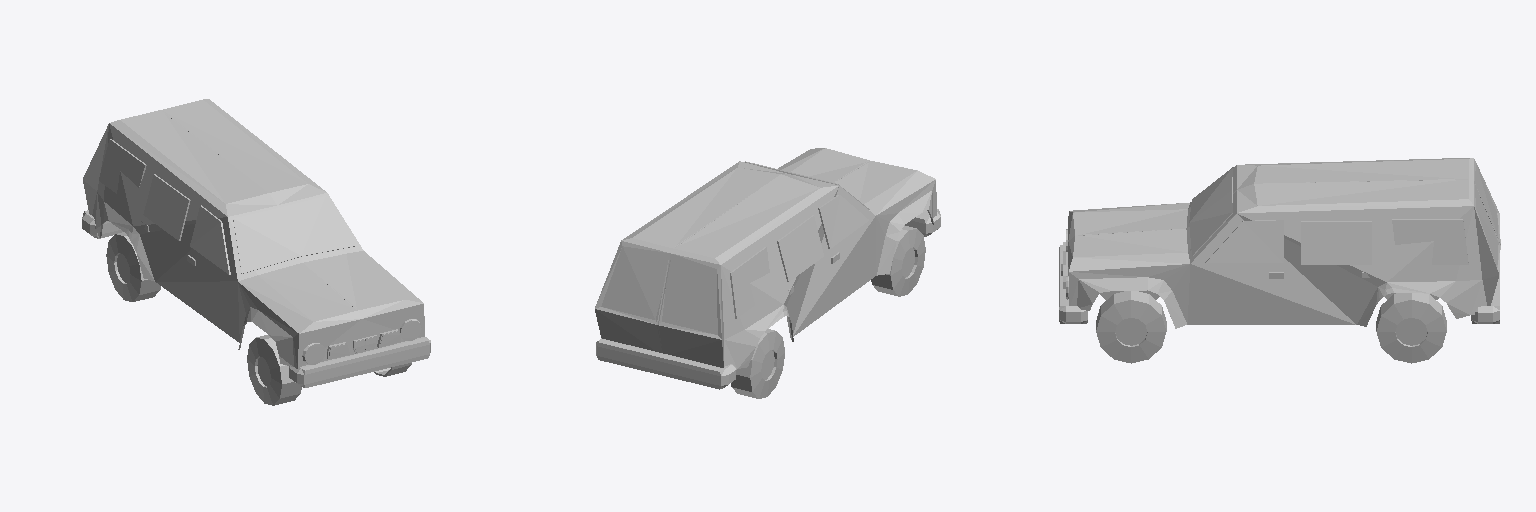
Rendered from patrol.obj.
3 renders of one model, left to right at view 1: azimuth 30°, elevation 25°; view 2: azimuth 150°, elevation 25°; view 3: azimuth 270°, elevation 25°, orthographic.
Visible parts, largest first — view 1: Cube_Cube.001; view 2: Cube_Cube.001; view 3: Cube_Cube.001.
Boxes of the visible parts, x1,y1,x2,y2 form: Cube_Cube.001: [82, 99, 430, 405]; Cube_Cube.001: [595, 148, 940, 398]; Cube_Cube.001: [1059, 158, 1500, 363].
Bounding box in the file's own units: 2.46 × 2.47 × 6.41.